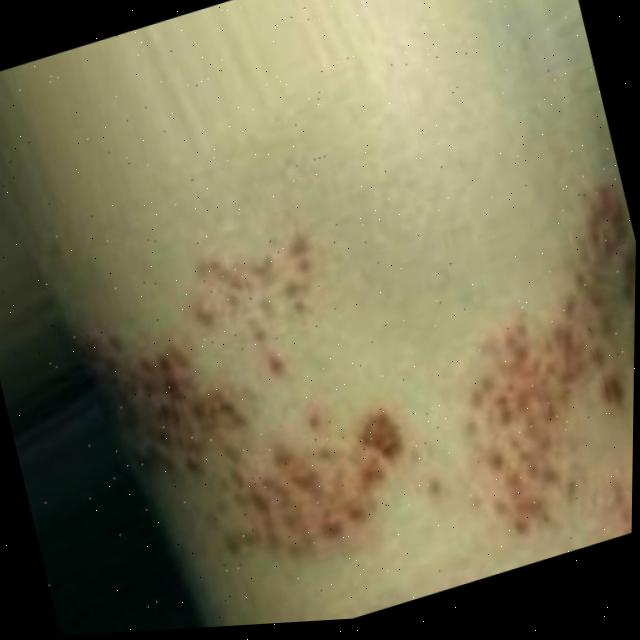Shingles: (79, 186, 430, 607), (394, 163, 637, 583)
